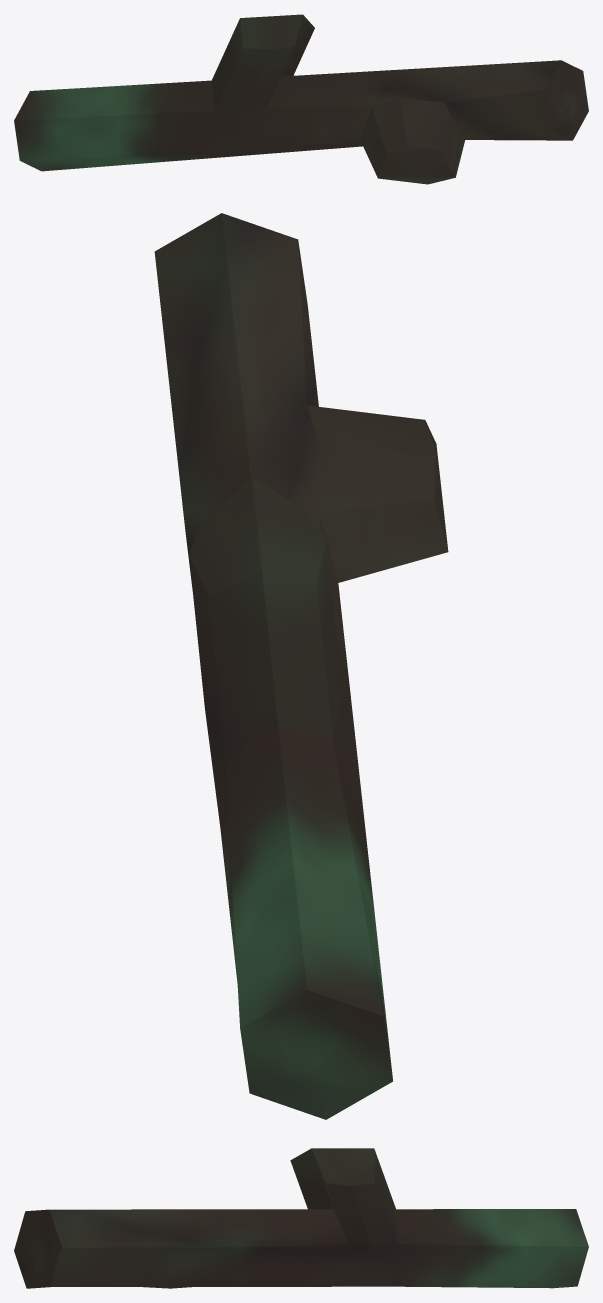
Rendered from polysurface103_lambert6_0.006_lev2.glb.
3 views of the same model, one above another, from view 1: azimuth 30°, elevation 25°; view 2: azimuth 150°, elevation 25°; view 3: azimuth 270°, elevation 25° (orthographic). The views are drawn at different scales.
Visible parts, largest first — view 1: polysurface103_lambert6_0.006_lev2; view 2: polysurface103_lambert6_0.006_lev2; view 3: polysurface103_lambert6_0.006_lev2.
Part boxes in pixels (left/top/right/bottom): polysurface103_lambert6_0.006_lev2: left=14, top=14, right=588, bottom=184; polysurface103_lambert6_0.006_lev2: left=154, top=213, right=448, bottom=1119; polysurface103_lambert6_0.006_lev2: left=14, top=1148, right=588, bottom=1288.
Bounding box in the file's own units: 0.3302 × 0.1958 × 0.4453.
1 material, 1 textured.
